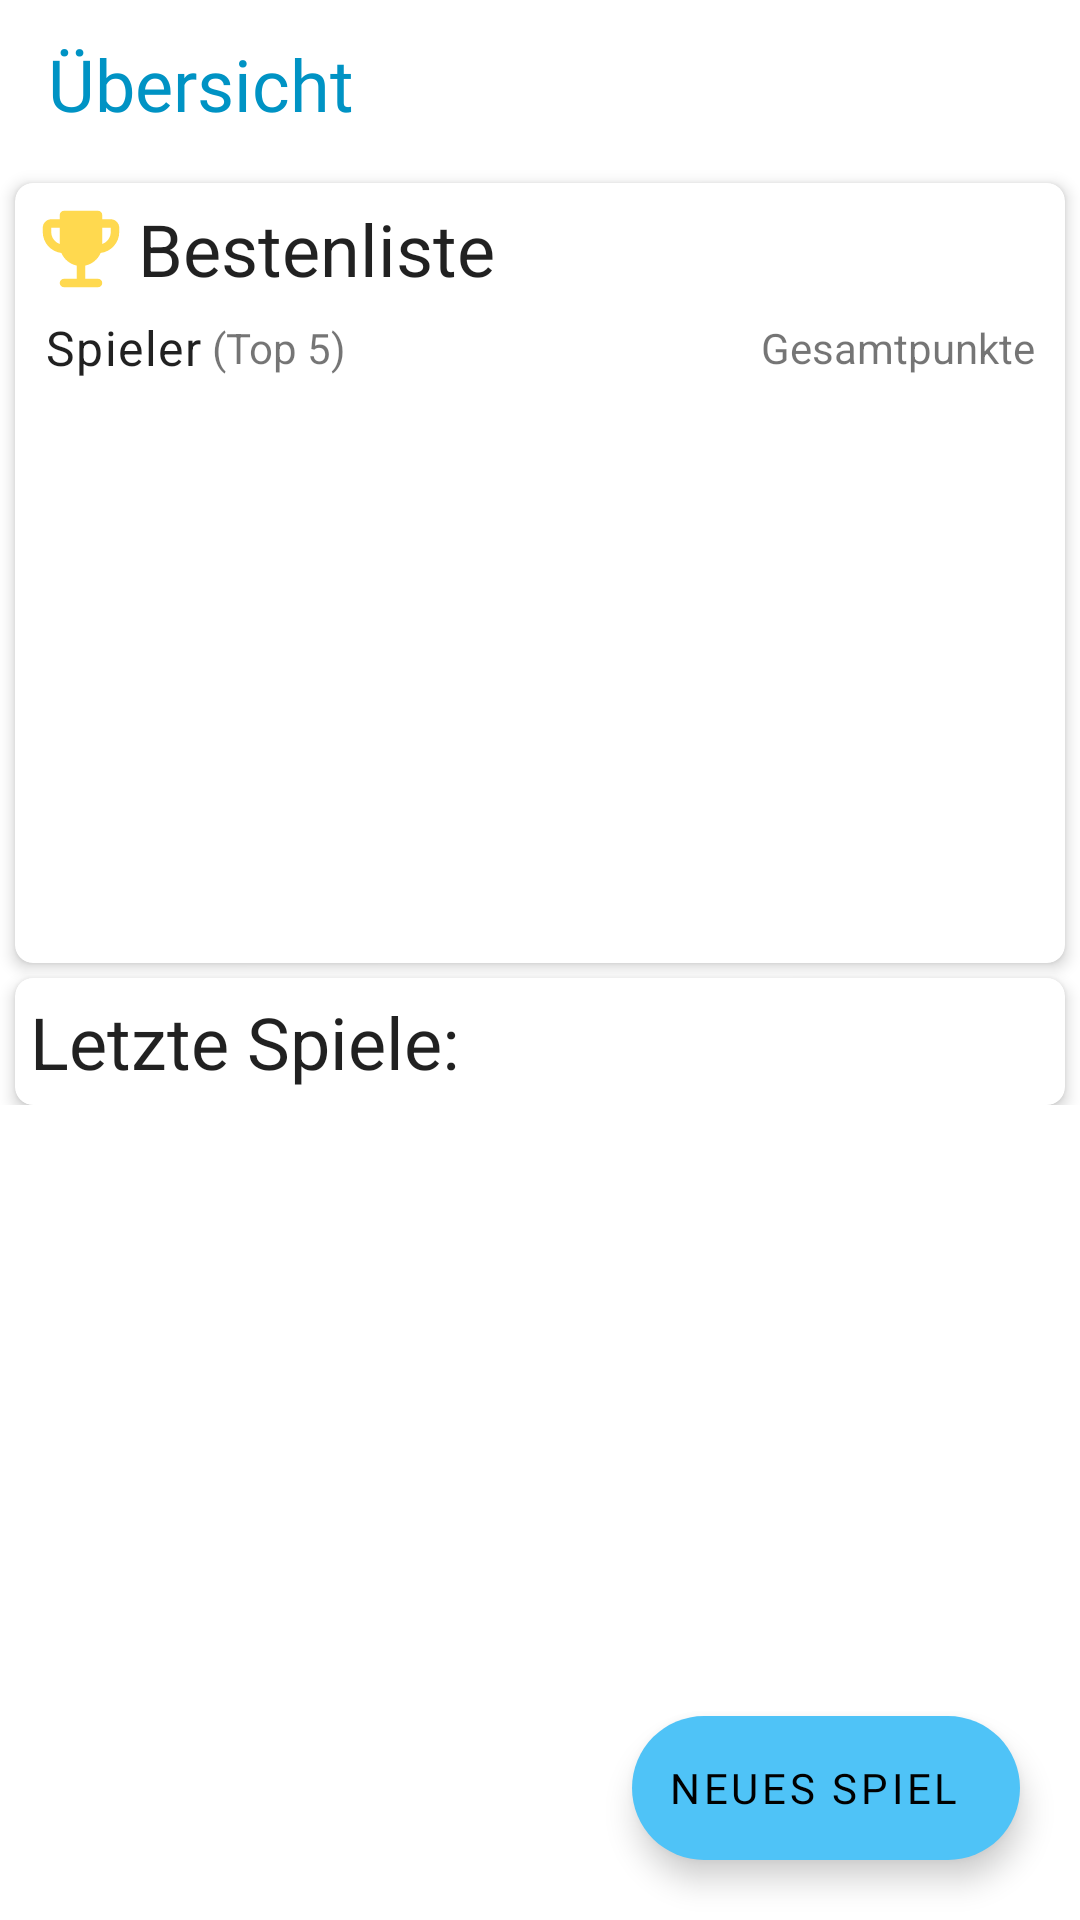

Locate icon controls on the screen. Image size 1080px x 1920px, boxes as (x1, y1, x2, y2).
emoji events: (42, 210, 120, 288)
